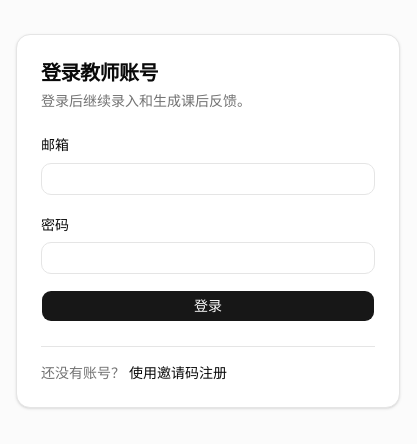
Test case: LoginPage › 登录失败显示错误码对应文案
This screenshot has width=417, height=444.
Type "teacher@example.com" into the field labelled "邮箱".
click(208, 178); type("teacher@example.com")  # box [41,162,375,194]
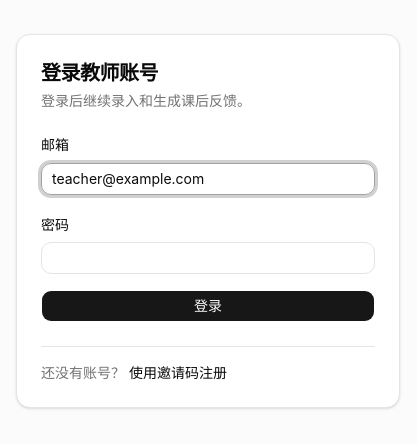
Type "wrong-password" into the password field labelled "密码".
click(208, 258); type("wrong-password")  # box [41,242,375,274]
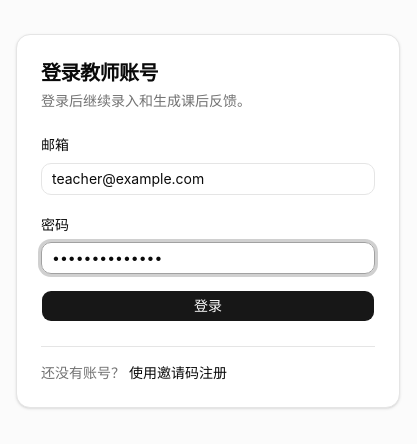
Click the button "登录".
click(208, 306)  # box [41,290,375,322]
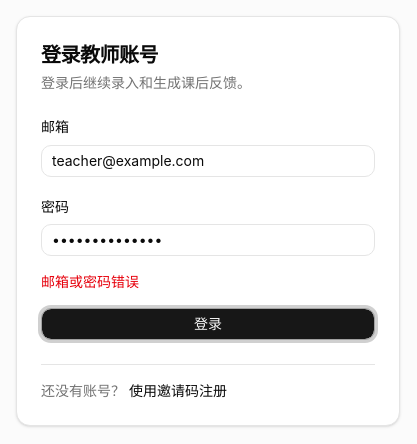
expect the message reads "邮箱或密码错误": met, box [41,273,139,290]
